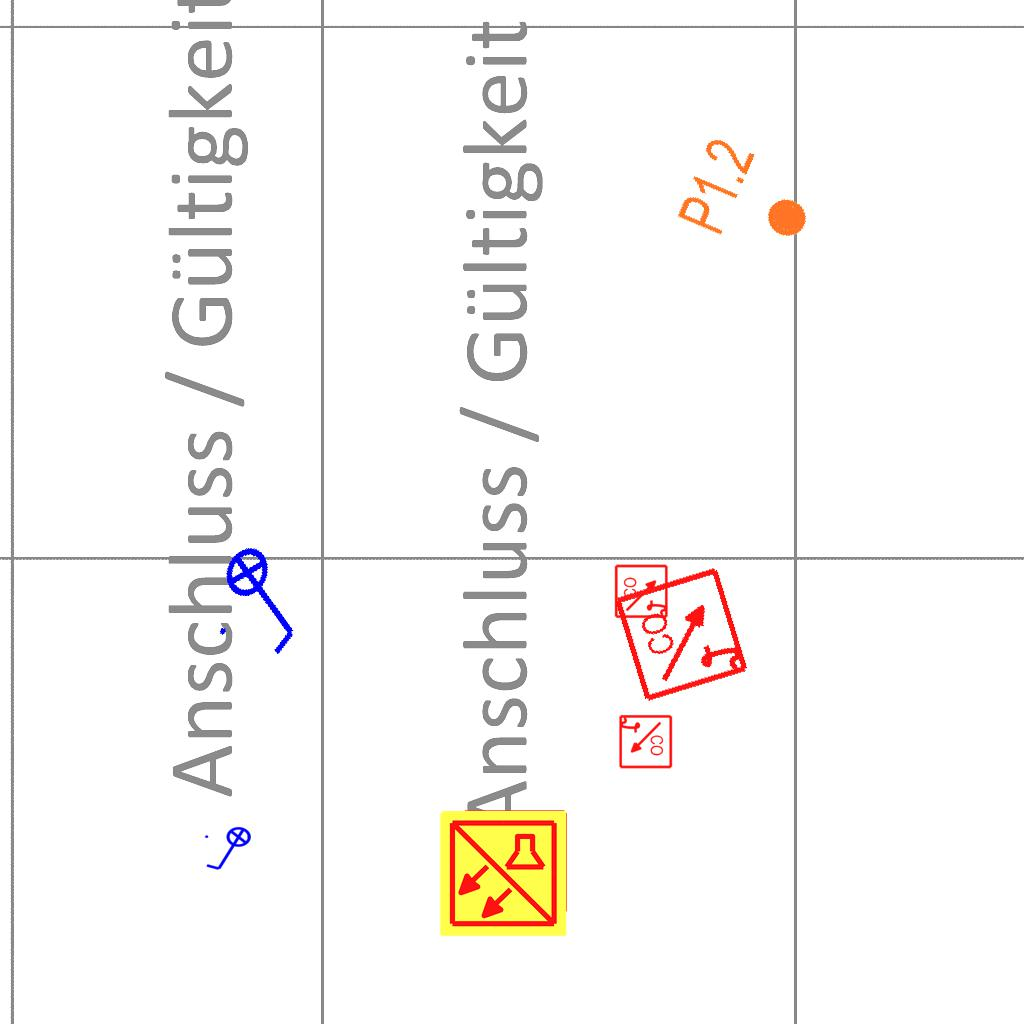Ausschalter_beleuchtet: (199, 528, 331, 668), (202, 826, 258, 874)
Downlight_LED_Einbauleuchten_Flur: (672, 132, 827, 268)
OKW_Multisensormelder_(Kombination_optischer_Rauch-Kahlenmonoxid_Waerme-Melder): (437, 807, 569, 939)
ROA_Rauchmelder_optisch_mit_Signalgeber_(Sockelsirene): (611, 562, 754, 705), (617, 714, 673, 770), (614, 563, 670, 619)
